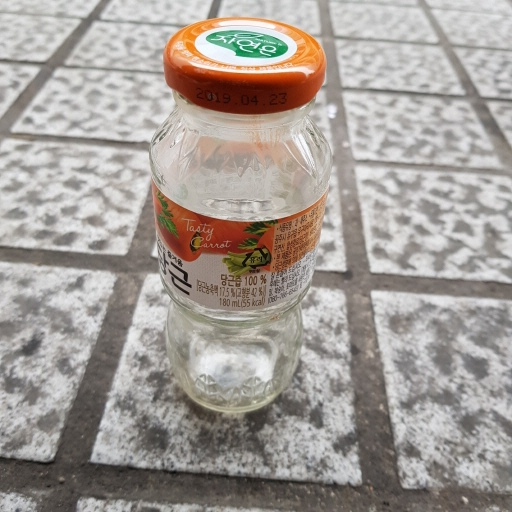Glass_4: (146, 19, 333, 417)
